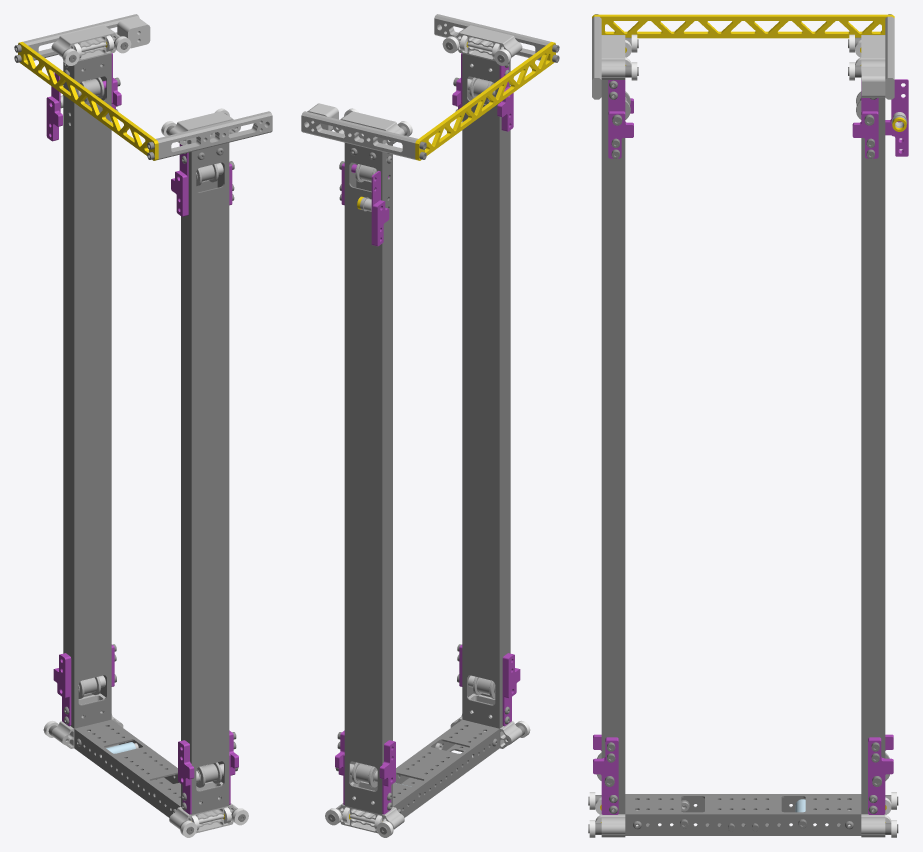
3 views of the same model, side by side, from view 1: azimuth 30°, elevation 25°; view 2: azimuth 150°, elevation 25°; view 3: azimuth 270°, elevation 25° (orthographic). The views are drawn at different scales.
Visible parts, largest first — view 1: 0200-Tube-06, 0200-Tube-09, 0200-Tube-04, 0200-Plate-10, 0200-Custom-10.001, TR_BearingBlockV2.011, TR_BearingBlockV2.003, TR_BearingBlockV2.009, 0200-Custom-10, 0200-Print-07, TR_BearingBlockV2.007, 0200-Plate-03.006 (+3 smaller); view 2: 0200-Tube-09, 0200-Tube-06, 0200-Tube-04, 0200-Plate-10, 0200-Custom-10, TR_BearingBlockV2.009, 0200-Custom-10.001, TR_BearingBlockV2.007, TR_BearingBlockV2.011, TR_BearingBlockV2.003, 0200-Plate-03.005, 0200-Plate-03.010 (+1 smaller); view 3: 0200-Tube-06, 0200-Tube-09, 0200-Tube-04, 0200-Plate-10, TR_BearingBlockV2.009, 0200-Plate-02.010, TR_BearingBlockV2.011, 0200-Custom-10, 0200-Custom-10.001, 0200-Print-07, 0200-Plate-03.001, 0200-Plate-03.013 (+2 smaller).
Part boxes in pixels (x1=…): 0200-Tube-06: x1=181, y1=143, x2=229, y2=814; 0200-Tube-09: x1=63, y1=53, x2=111, y2=728; 0200-Tube-04: x1=74, y1=719, x2=180, y2=817; 0200-Plate-10: x1=18, y1=42, x2=158, y2=160; 0200-Custom-10.001: x1=156, y1=111, x2=272, y2=159; TR_BearingBlockV2.011: x1=51, y1=25, x2=120, y2=73; TR_BearingBlockV2.003: x1=169, y1=781, x2=237, y2=833; TR_BearingBlockV2.009: x1=169, y1=111, x2=240, y2=156; 0200-Custom-10: x1=23, y1=14, x2=139, y2=60; 0200-Print-07: x1=117, y1=17, x2=150, y2=48; TR_BearingBlockV2.007: x1=51, y1=693, x2=123, y2=748; 0200-Plate-03.006: x1=171, y1=170, x2=187, y2=216; 0200-Tube-09: x1=344, y1=143, x2=392, y2=814; 0200-Tube-06: x1=462, y1=53, x2=510, y2=728; 0200-Tube-04: x1=393, y1=719, x2=499, y2=817; 0200-Plate-10: x1=415, y1=42, x2=555, y2=160; 0200-Custom-10: x1=301, y1=111, x2=417, y2=159; TR_BearingBlockV2.009: x1=453, y1=25, x2=522, y2=71; 0200-Custom-10.001: x1=434, y1=14, x2=550, y2=60; TR_BearingBlockV2.007: x1=336, y1=781, x2=404, y2=833; TR_BearingBlockV2.011: x1=333, y1=111, x2=404, y2=159; TR_BearingBlockV2.003: x1=450, y1=693, x2=522, y2=748; 0200-Plate-03.005: x1=373, y1=200, x2=389, y2=246; 0200-Plate-03.010: x1=504, y1=653, x2=520, y2=698; 0200-Tube-06: x1=601, y1=80, x2=625, y2=814; 0200-Tube-09: x1=861, y1=98, x2=885, y2=814; 0200-Tube-04: x1=625, y1=794, x2=861, y2=835; 0200-Plate-10: x1=592, y1=14, x2=894, y2=38; TR_BearingBlockV2.009: x1=601, y1=35, x2=625, y2=95; 0200-Plate-02.010: x1=891, y1=79, x2=908, y2=156; TR_BearingBlockV2.011: x1=861, y1=35, x2=885, y2=79; 0200-Custom-10: x1=885, y1=16, x2=894, y2=99; 0200-Custom-10.001: x1=592, y1=16, x2=601, y2=99; 0200-Print-07: x1=861, y1=67, x2=885, y2=97; 0200-Plate-03.001: x1=868, y1=738, x2=893, y2=785; 0200-Plate-03.013: x1=593, y1=738, x2=618, y2=785.
Size of the model in its own units: 0.162 by 0.9 by 0.3353.
